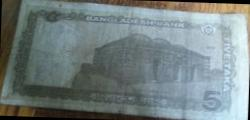5 taka: (24, 4, 234, 112)
